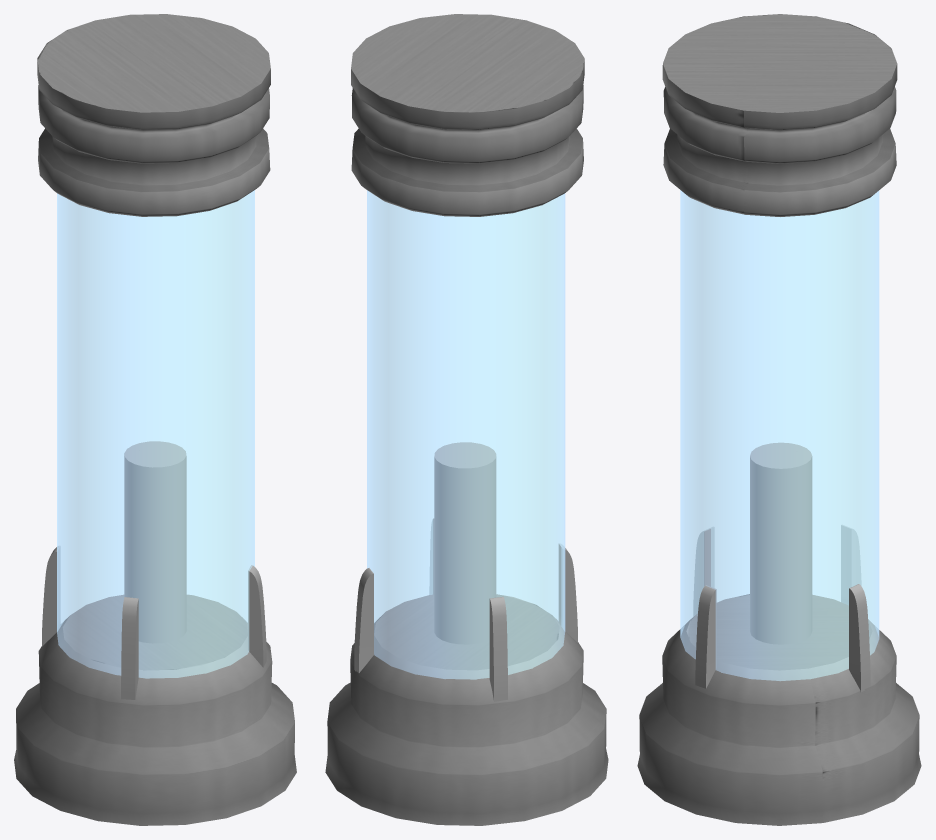
File: Pillar_Export_V002.fbx
3 views of the same model, side by side, from view 1: azimuth 30°, elevation 25°; view 2: azimuth 150°, elevation 25°; view 3: azimuth 270°, elevation 25° (orthographic).
Visible parts, largest first — view 1: Pillar, pillar_glass, holder3, holder4, holder2; view 2: Pillar, pillar_glass, holder2, holder1, holder3; view 3: Pillar, pillar_glass, holder1, holder4, holder2, holder3.
Boxes of the visible parts, x1=… form: Pillar: x1=14, y1=14, x2=296, y2=825; pillar_glass: x1=57, y1=190, x2=254, y2=678; holder3: x1=121, y1=597, x2=138, y2=699; holder4: x1=248, y1=565, x2=266, y2=667; holder2: x1=42, y1=546, x2=59, y2=646; Pillar: x1=325, y1=14, x2=608, y2=825; pillar_glass: x1=367, y1=190, x2=565, y2=679; holder2: x1=489, y1=596, x2=507, y2=701; holder1: x1=354, y1=568, x2=373, y2=672; holder3: x1=558, y1=543, x2=577, y2=642; Pillar: x1=637, y1=14, x2=921, y2=825; pillar_glass: x1=680, y1=190, x2=879, y2=680; holder1: x1=849, y1=584, x2=870, y2=692; holder4: x1=695, y1=585, x2=716, y2=688; holder2: x1=841, y1=525, x2=860, y2=604; holder3: x1=694, y1=527, x2=713, y2=615.
Size of the model in its own units: 6.48 by 17.67 by 6.48.
